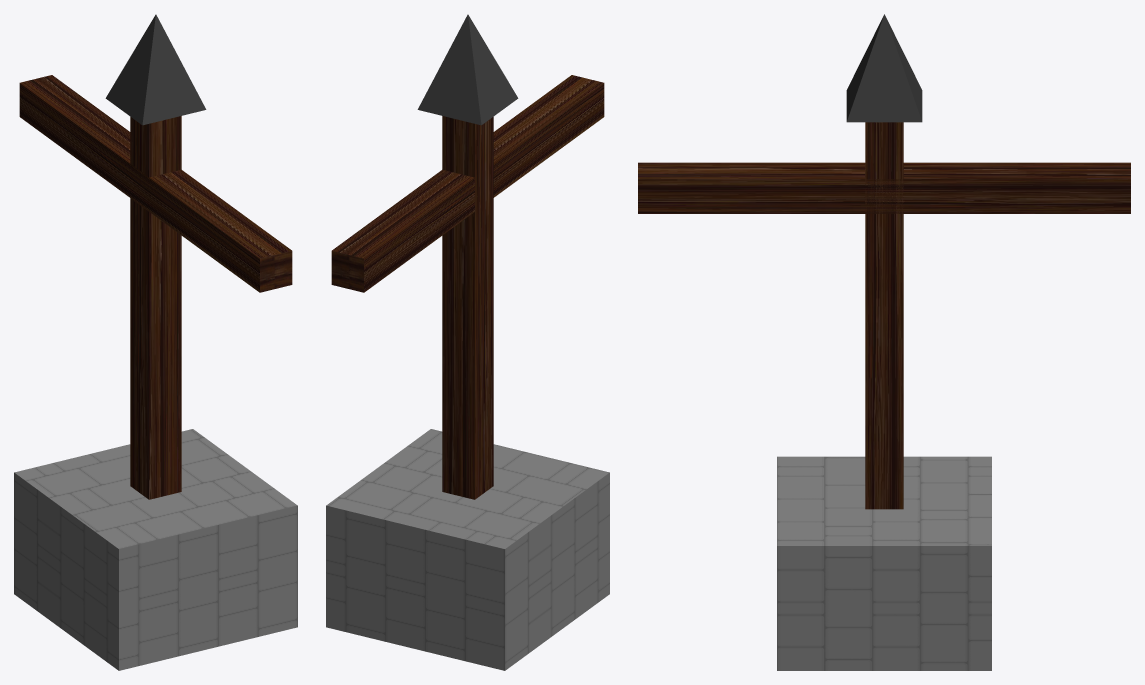
File: tron at culross.fbx
3 renders of one model, left to right at view 1: azimuth 30°, elevation 25°; view 2: azimuth 150°, elevation 25°; view 3: azimuth 270°, elevation 25°, orthographic. The views are drawn at different scales.
Parts seen in each view (by area): view 1: Cube, Cube.001, Cube.002, Cube.003; view 2: Cube, Cube.001, Cube.002, Cube.003; view 3: Cube, Cube.002, Cube.001, Cube.003.
Boxes of the visible parts, x1=… form: Cube: x1=14, y1=429, x2=297, y2=670; Cube.001: x1=130, y1=116, x2=181, y2=499; Cube.002: x1=19, y1=75, x2=292, y2=292; Cube.003: x1=105, y1=14, x2=206, y2=125; Cube: x1=326, y1=429, x2=609, y2=670; Cube.001: x1=442, y1=116, x2=493, y2=499; Cube.002: x1=331, y1=75, x2=604, y2=292; Cube.003: x1=417, y1=14, x2=518, y2=125; Cube: x1=777, y1=456, x2=991, y2=670; Cube.002: x1=638, y1=162, x2=1130, y2=213; Cube.001: x1=865, y1=122, x2=903, y2=509; Cube.003: x1=846, y1=14, x2=922, y2=122.
Bounding box in the file's own units: 307 × 980 × 715.
Materials: 4 (3 with a texture image).
